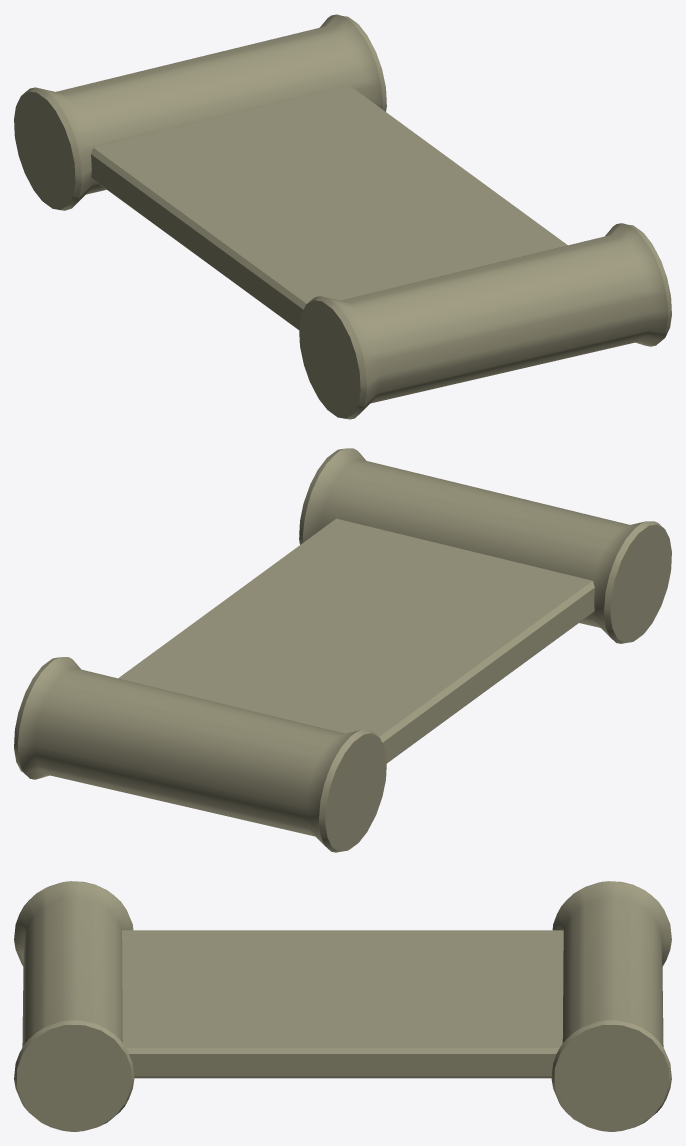
The model's file is scroll.fbx.
3 views of the same model, one above another, from view 1: azimuth 30°, elevation 25°; view 2: azimuth 150°, elevation 25°; view 3: azimuth 270°, elevation 25° (orthographic). The views are drawn at different scales.
Visible parts, largest first — view 1: pCylinder3; view 2: pCylinder3; view 3: pCylinder3.
Part boxes in pixels (bbox=[...]): pCylinder3: bbox=[14, 14, 671, 419]; pCylinder3: bbox=[14, 448, 671, 852]; pCylinder3: bbox=[14, 881, 671, 1131].
Bounding box in the file's own units: 2.98 × 1.05 × 5.7.
